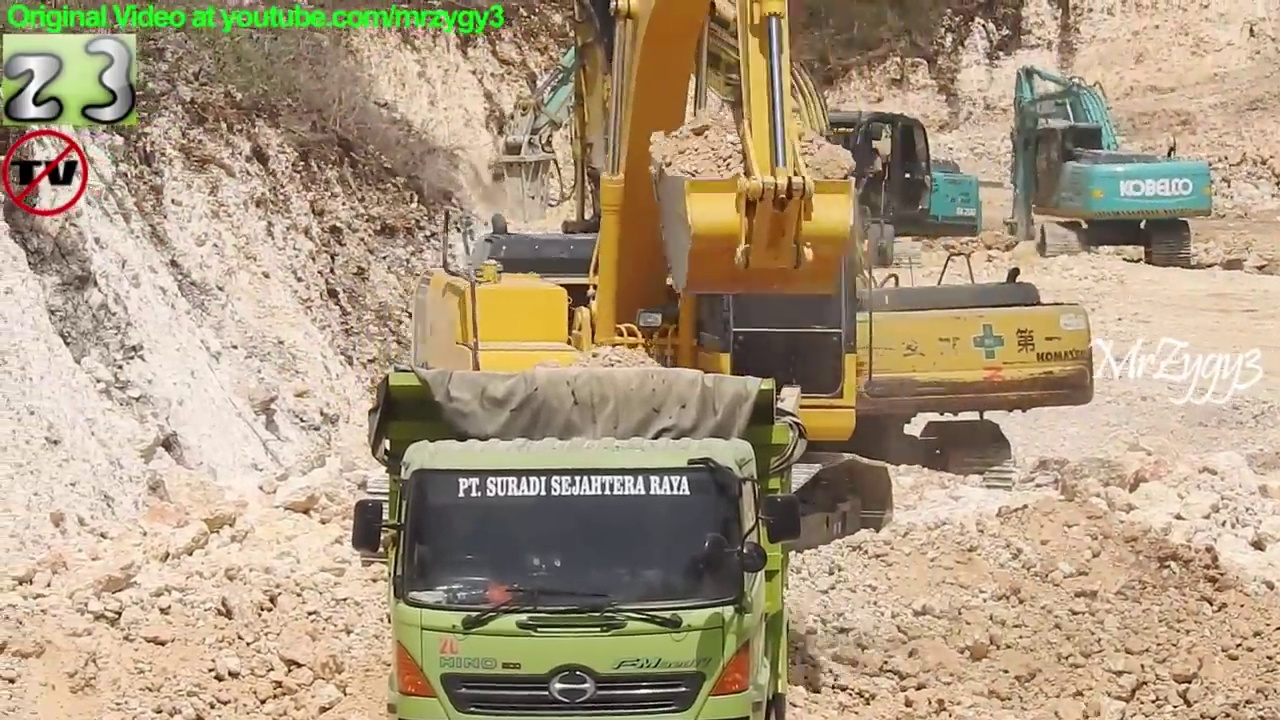excavator: (347, 1, 902, 585), (530, 1, 1103, 505), (479, 1, 988, 278), (991, 57, 1220, 276)
truck: (348, 364, 812, 720)
